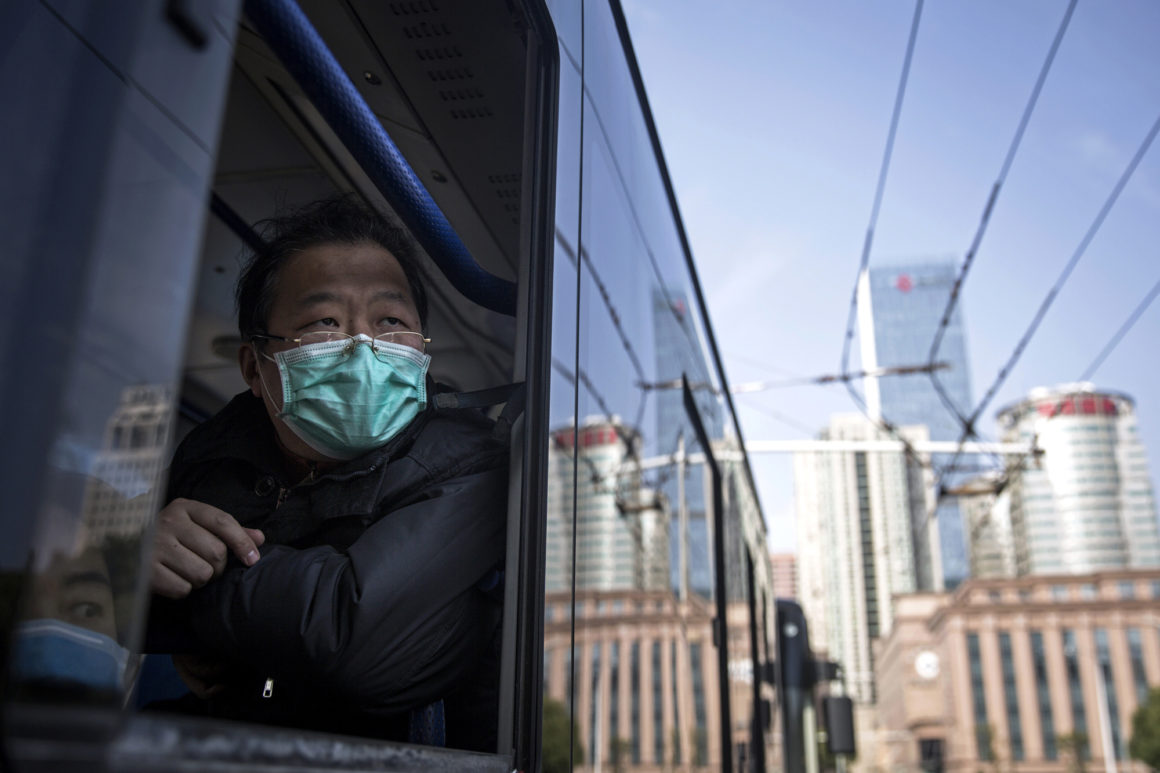surgical: (268, 334, 434, 456)
